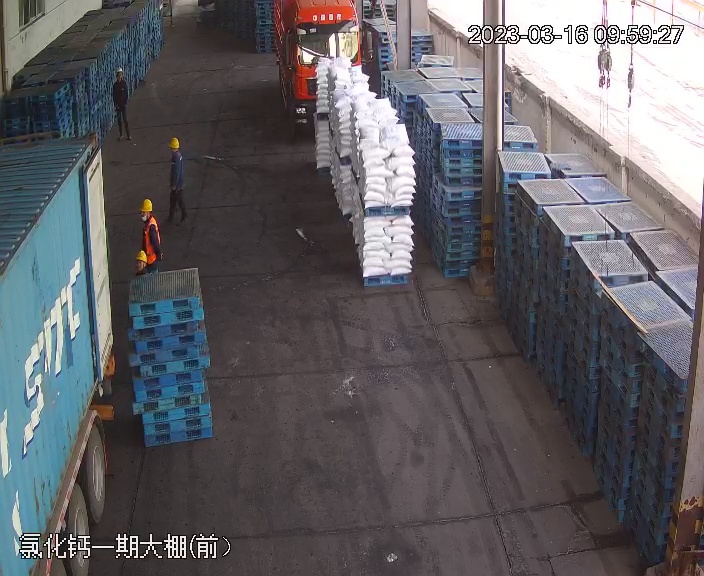head: (138, 198, 160, 234), (166, 136, 185, 168), (112, 68, 128, 88)
helmet: (133, 249, 150, 262), (139, 198, 153, 212), (167, 136, 181, 149), (115, 68, 123, 74)
people: (164, 137, 191, 228), (137, 198, 166, 275), (109, 68, 133, 143)
truck: (2, 132, 126, 576), (265, 1, 367, 114)
